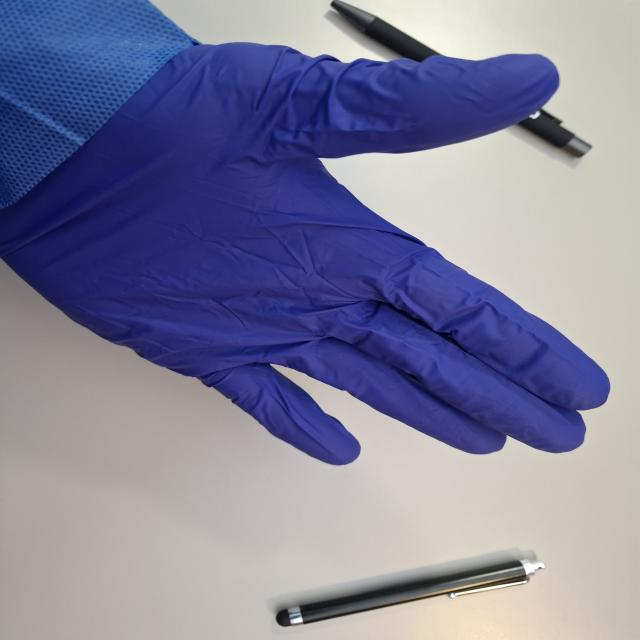glove_on: (1, 36, 614, 468)
